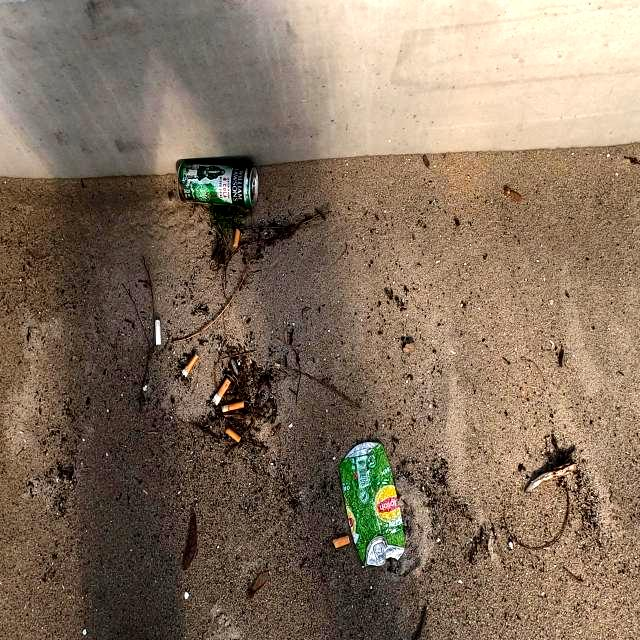Metal: (338, 439, 406, 569), (175, 160, 258, 210)
